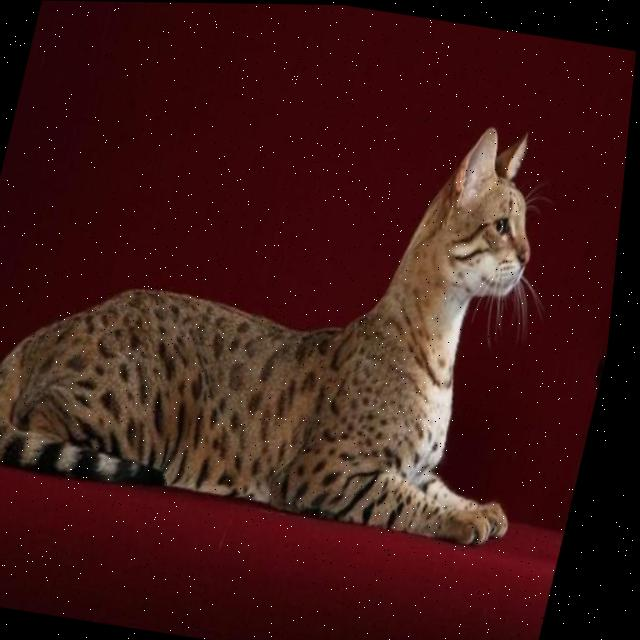Cats: (0, 126, 537, 546)
